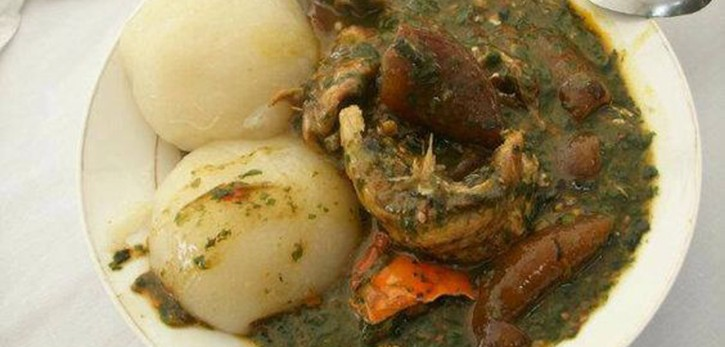peau de boeuf: (520, 225, 564, 327)
placali: (154, 4, 261, 193)
poisson fumee: (352, 110, 441, 300)
sauce gombo: (468, 9, 571, 25)
